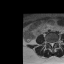CCS_normal: (51, 40, 53, 49)
LFS_stenosis: (54, 40, 56, 45)
LLS_normal: (53, 40, 54, 46)
RFS_stenosis: (47, 40, 49, 45)
RLS_normal: (49, 40, 51, 46)
